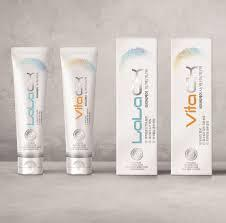toothpaste: (7, 43, 50, 183), (55, 45, 100, 178)
